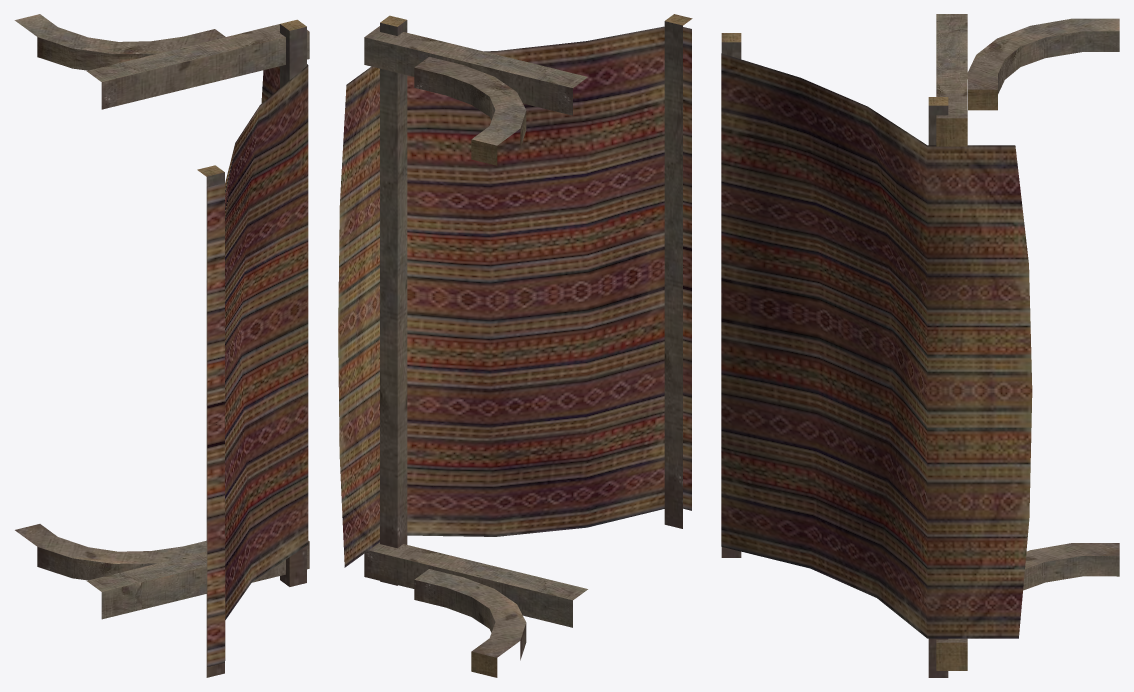
File: awning_2x4-5_3.glb
The picture shows the model from 3 angles, left to right: view 1: azimuth 30°, elevation 25°; view 2: azimuth 150°, elevation 25°; view 3: azimuth 270°, elevation 25°; orthographic projection. The views are drawn at different scales.
Size of the model in its own units: 24.06 by 61.54 by 38.79.
Materials: 1 (1 with a texture image).
